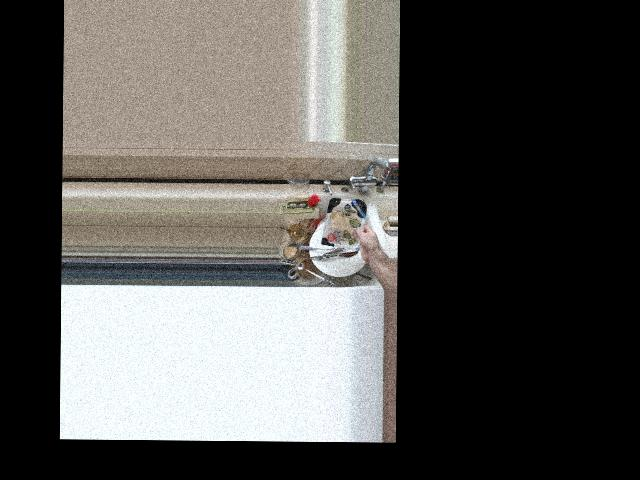cheese: (323, 194, 379, 258)
